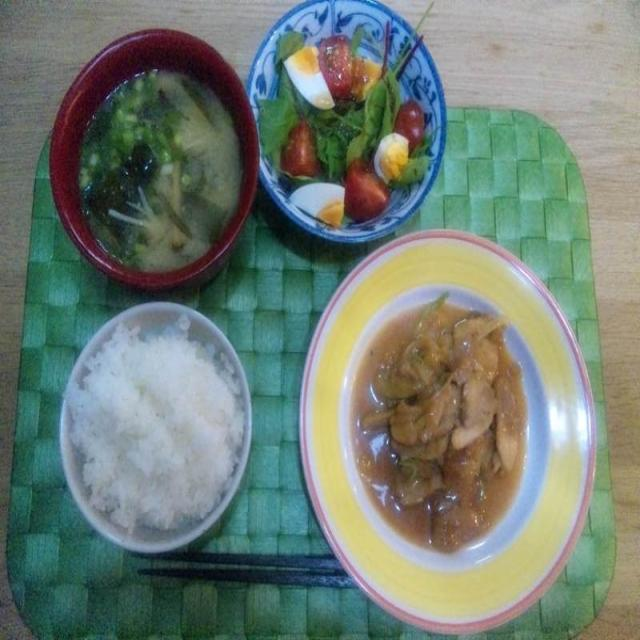Rice: (54, 294, 260, 566)
